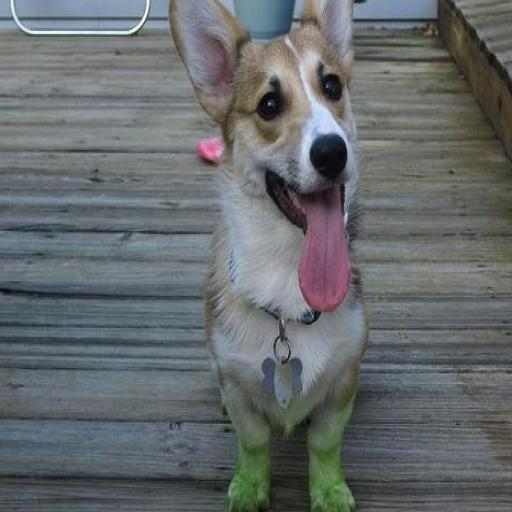dog_face: (171, 0, 366, 255)
